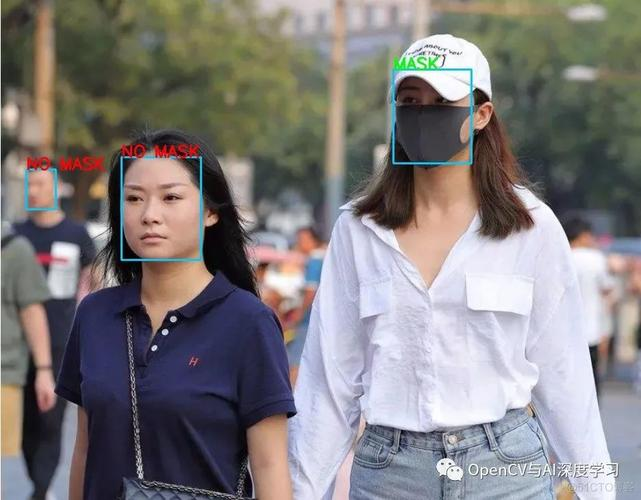nomask: (121, 160, 199, 258)
